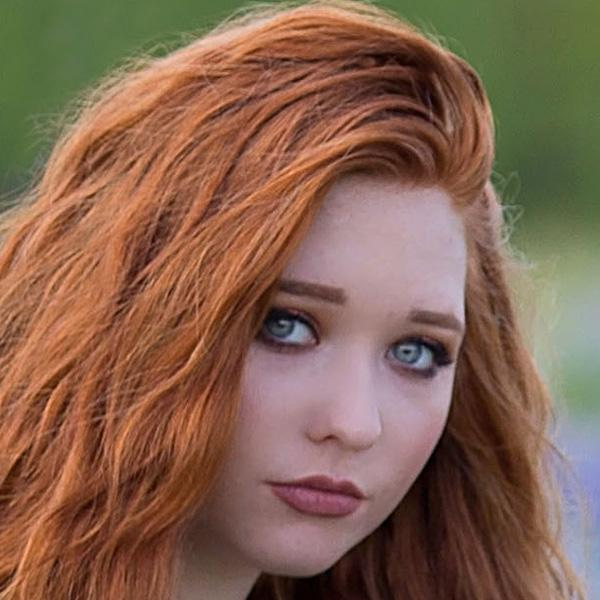Eyes: (238, 299, 330, 356), (371, 326, 450, 385)
